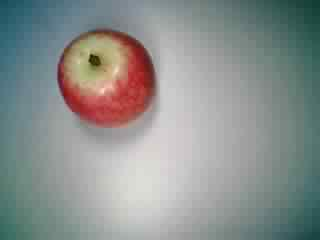apple: (55, 23, 159, 127)
